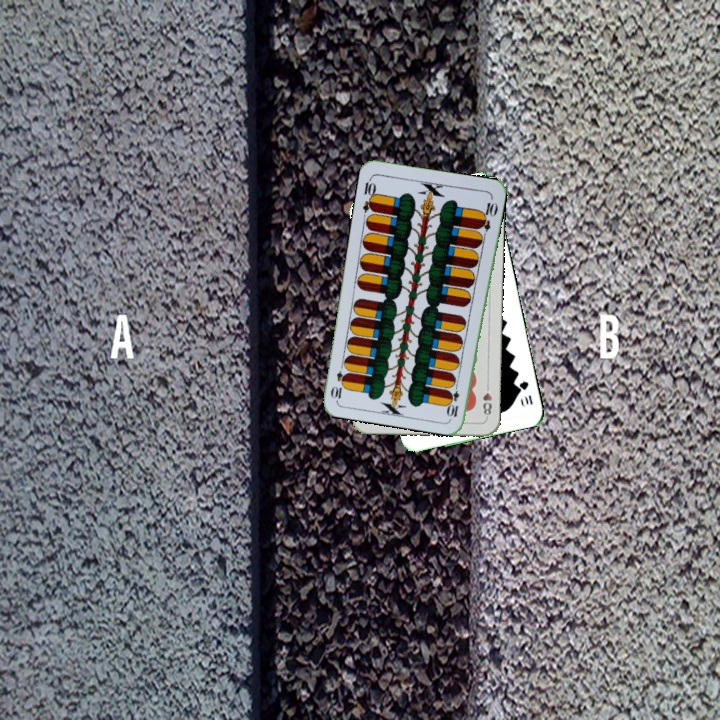E10: (358, 174, 379, 214), (445, 379, 462, 419)
G10: (515, 377, 535, 407)
H8: (479, 380, 495, 420)
